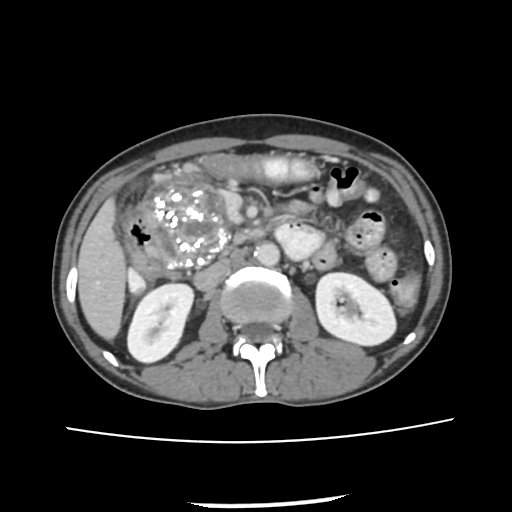aorta: (253, 238, 283, 267)
